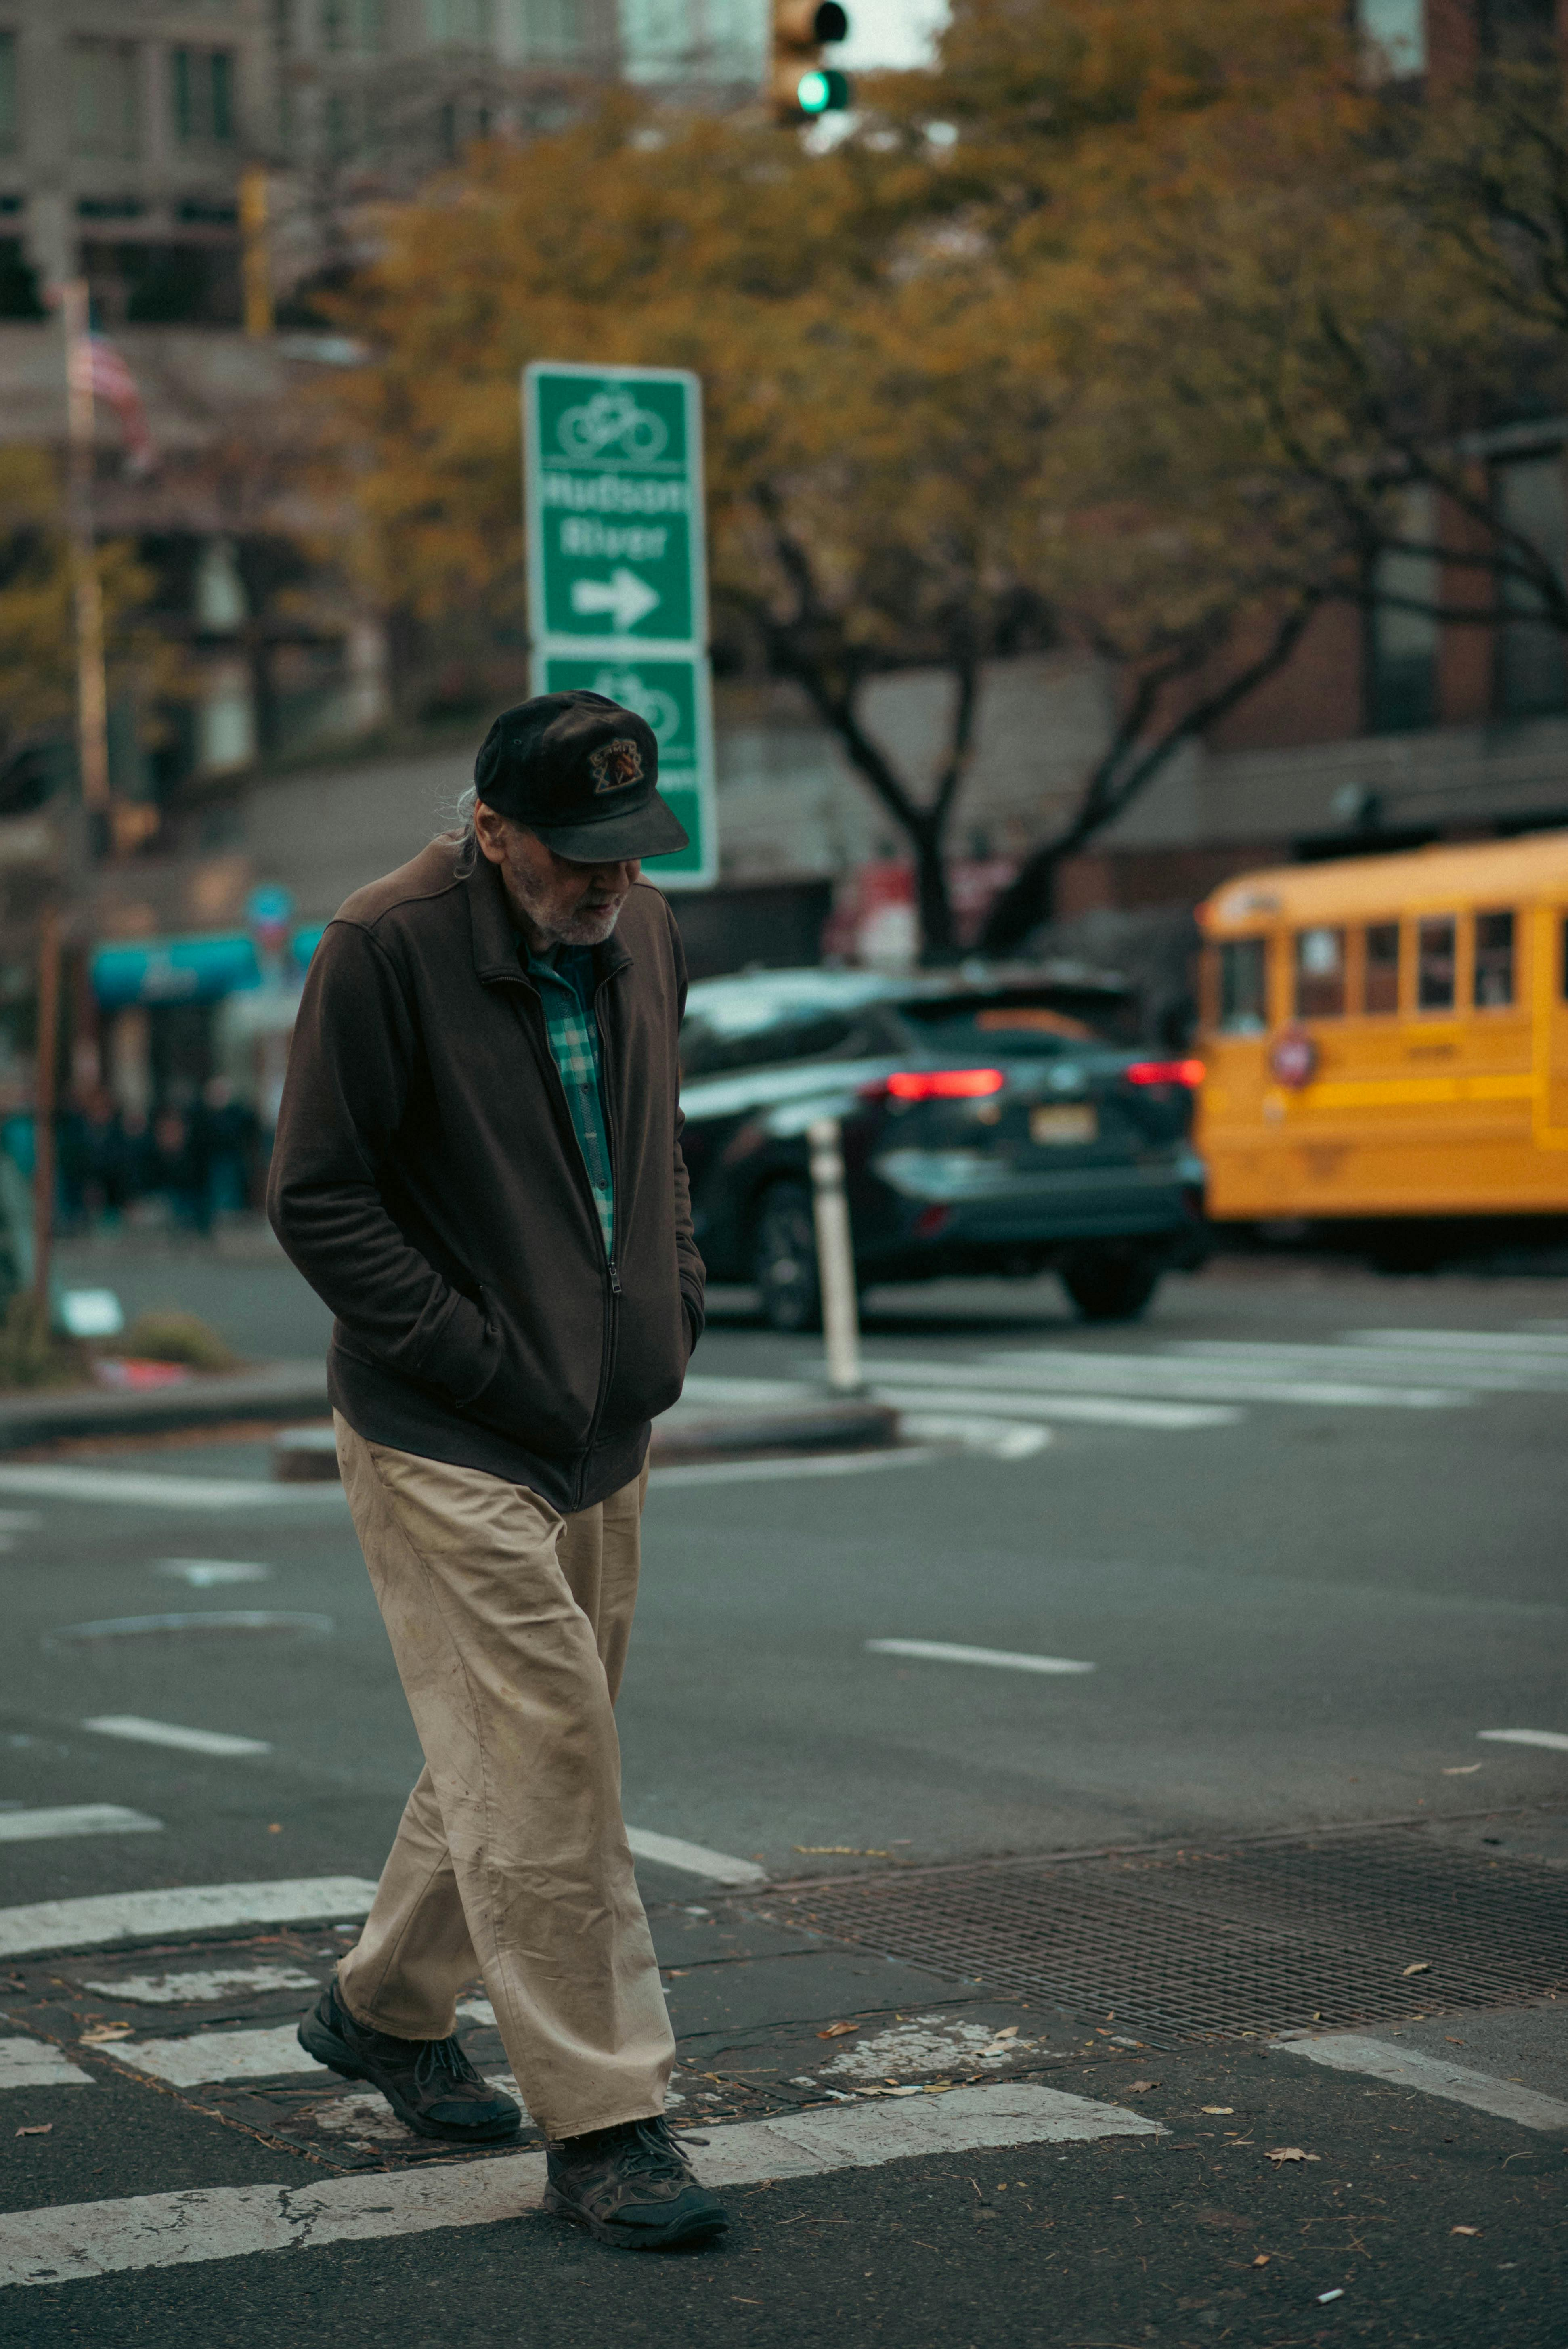car: (1130, 848, 1568, 1286)
person: (259, 676, 787, 2234)
